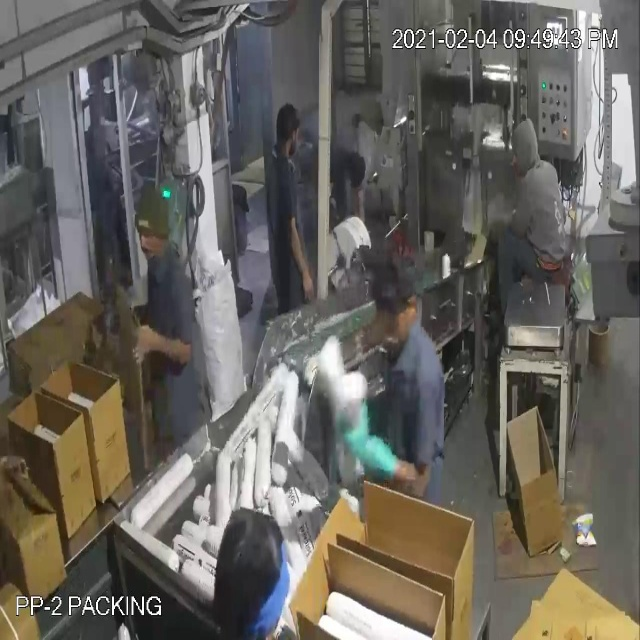Guantes: (334, 389, 405, 492)
Sin_guantes: (123, 307, 197, 381), (279, 202, 317, 309)
